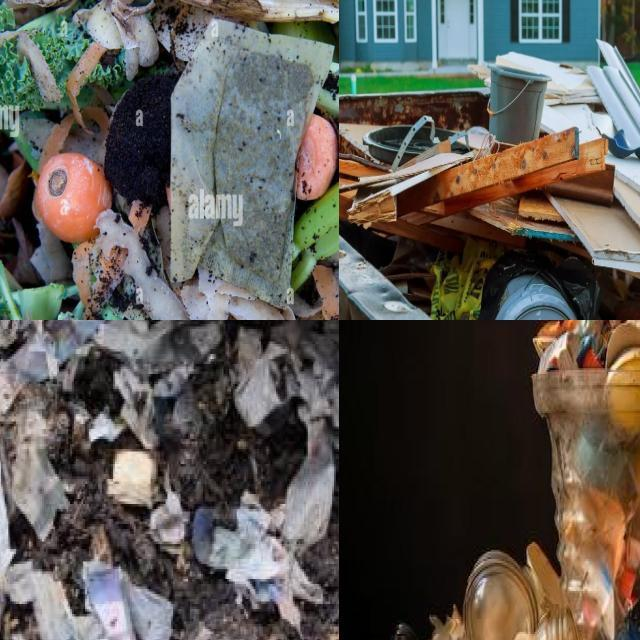Disposable: (464, 552, 538, 640), (534, 607, 578, 640)
Garbage: (0, 320, 339, 640), (339, 44, 640, 320), (428, 320, 640, 640)
Plastic: (430, 237, 503, 320)
Plastic_Container: (533, 369, 640, 640), (488, 64, 550, 144), (495, 275, 577, 320)
Plastic_wraper: (583, 320, 620, 356)
